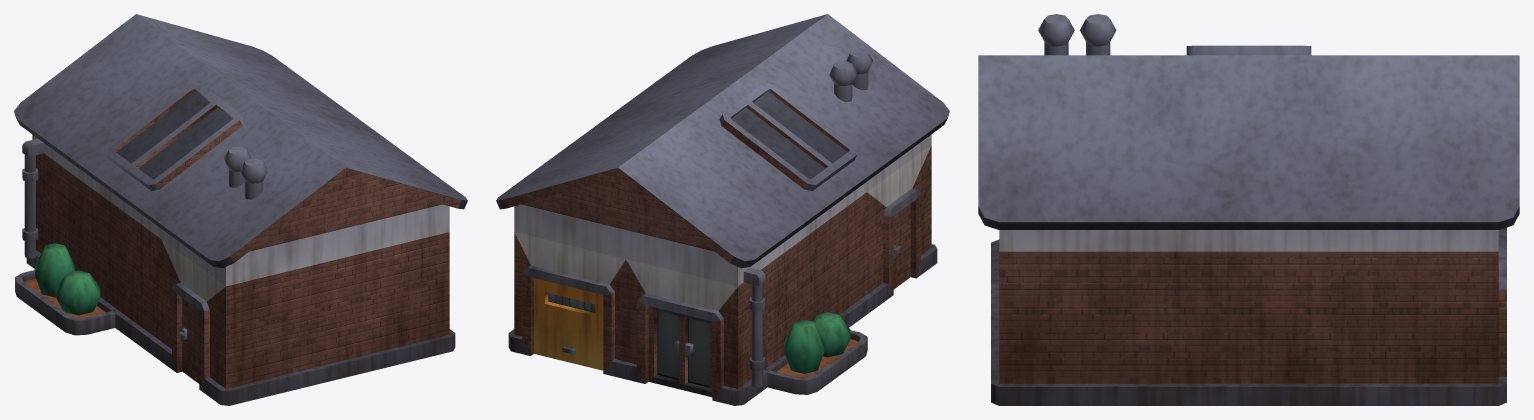
The model's file is building-i-brown.glb.
The picture shows the model from 3 angles, left to right: view 1: azimuth 30°, elevation 25°; view 2: azimuth 150°, elevation 25°; view 3: azimuth 270°, elevation 25°; orthographic projection. The views are drawn at different scales.
Visible parts, largest first — view 1: building-i; view 2: building-i; view 3: building-i.
Part boxes in pixels (bbox=[...]): building-i: bbox=[14, 14, 467, 405]; building-i: bbox=[496, 14, 949, 405]; building-i: bbox=[978, 14, 1519, 405].
Size of the model in its own units: 1.03 by 0.7335 by 1.3.
1 material, 1 textured.
